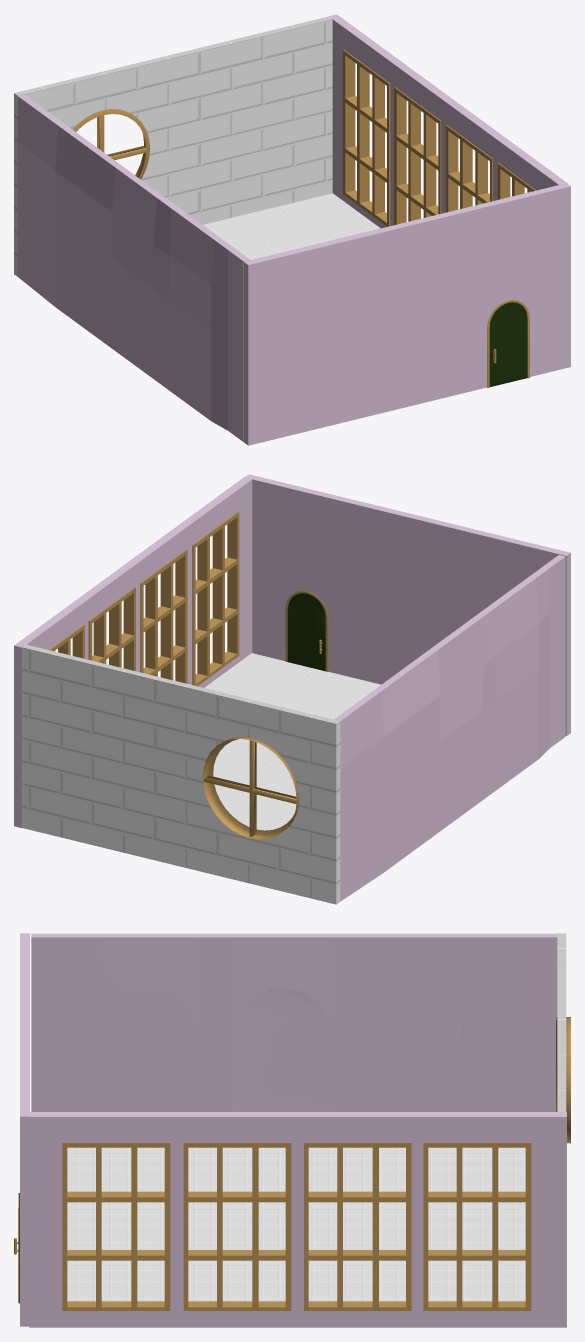
The model's file is room2.fbx.
The picture shows the model from 3 angles, top to bottom: view 1: azimuth 30°, elevation 25°; view 2: azimuth 150°, elevation 25°; view 3: azimuth 270°, elevation 25°; orthographic projection. The views are drawn at different scales.
Visible parts, largest first — view 1: entrancewall, pink, white, Cube, Cube.001, floor, Cube.002, Cube.003, door, WINDOW, Cube.004, doorframe; view 2: white, pink, entrancewall, Cube, floor, Cube.004, Cube.003, WINDOW, Cube.002, door, Cube.001, doorframe; view 3: pink, floor, Cube, Cube.001, Cube.004, Cube.003, Cube.002, entrancewall, white, WINDOW.
Boxes of the visible parts, x1,y1,x2,y2 form: entrancewall: [244, 183, 570, 445]; pink: [18, 94, 250, 441]; white: [14, 16, 332, 276]; Cube: [329, 14, 567, 228]; Cube.001: [342, 49, 390, 226]; floor: [203, 193, 380, 259]; Cube.002: [394, 87, 441, 225]; Cube.003: [445, 125, 492, 212]; door: [489, 302, 527, 386]; WINDOW: [73, 109, 150, 179]; Cube.004: [497, 163, 535, 199]; doorframe: [487, 300, 529, 388]; white: [22, 644, 340, 904]; pink: [334, 555, 565, 901]; entrancewall: [246, 474, 570, 735]; Cube: [14, 477, 252, 828]; floor: [204, 653, 380, 830]; Cube.004: [192, 511, 239, 686]; Cube.003: [140, 549, 187, 683]; WINDOW: [202, 737, 298, 839]; Cube.002: [88, 587, 135, 671]; door: [287, 593, 325, 671]; Cube.001: [49, 624, 84, 658]; doorframe: [285, 590, 328, 671]; pink: [31, 933, 557, 1111]; floor: [67, 1147, 525, 1301]; Cube: [29, 1112, 566, 1327]; Cube.001: [423, 1142, 531, 1310]; Cube.004: [62, 1142, 170, 1310]; Cube.003: [183, 1142, 291, 1310]; Cube.002: [304, 1142, 411, 1310]; entrancewall: [20, 933, 29, 1326]; white: [557, 933, 566, 1111]; WINDOW: [556, 1017, 570, 1143].
Size of the model in its own units: 4292 by 2266 by 5423.
